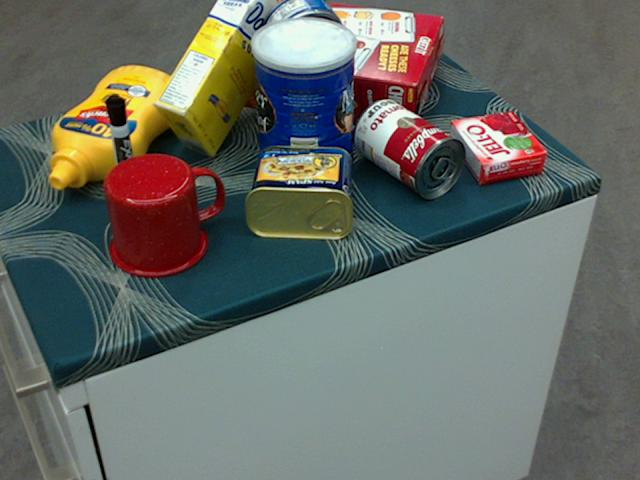cracker_box: (229, 0, 441, 131)
gelatin_box: (447, 111, 546, 183)
large_marker: (103, 95, 141, 206)
master_chef_can: (250, 17, 356, 187)
mug: (104, 152, 224, 277)
mustard_bottle: (47, 66, 185, 189)
potted_meat_can: (244, 144, 353, 238)
sugar_box: (153, 0, 288, 159)
tomato_soup_can: (353, 98, 466, 198)
tuna_fish_can: (260, 0, 344, 76)
